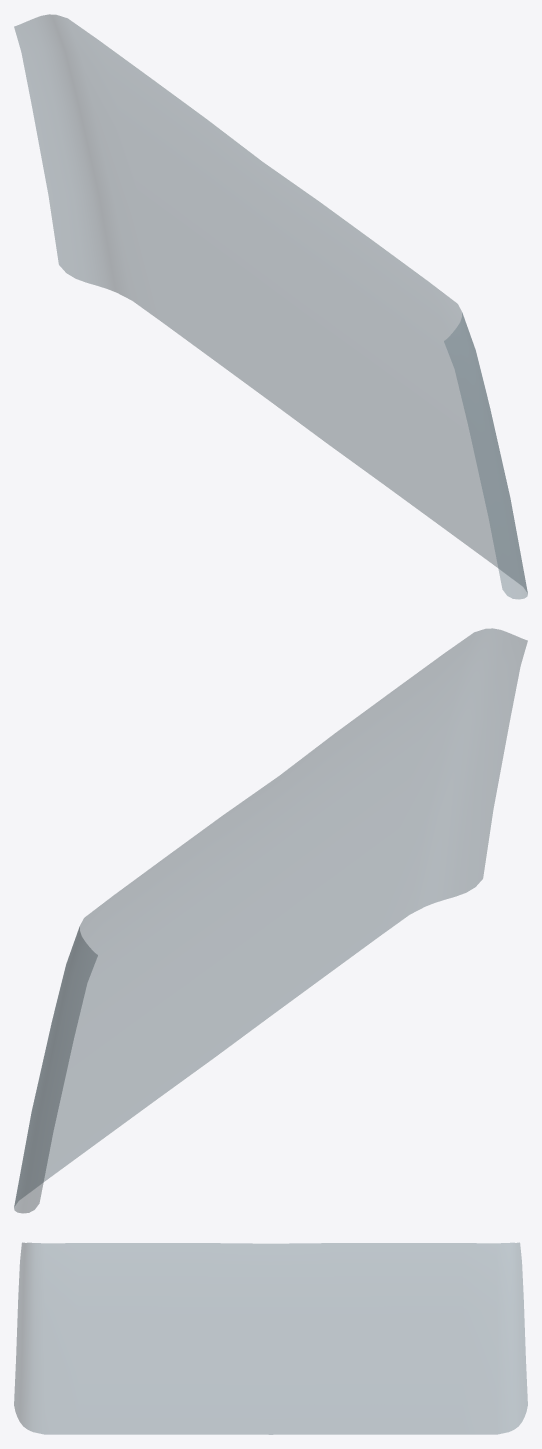
3 renders of one model, top to bottom at view 1: azimuth 30°, elevation 25°; view 2: azimuth 150°, elevation 25°; view 3: azimuth 270°, elevation 25°, orthographic. The views are drawn at different scales.
Parts seen in each view (by area): view 1: SM_EuropeanHGV_Glass_Int2; view 2: SM_EuropeanHGV_Glass_Int2; view 3: SM_EuropeanHGV_Glass_Int2.
Boxes of the visible parts, bbox=[...] form: SM_EuropeanHGV_Glass_Int2: bbox=[14, 14, 527, 599]; SM_EuropeanHGV_Glass_Int2: bbox=[14, 628, 527, 1213]; SM_EuropeanHGV_Glass_Int2: bbox=[14, 1242, 527, 1434].
Bounding box in the file's own units: 0.3409 × 0.9845 × 2.64.
